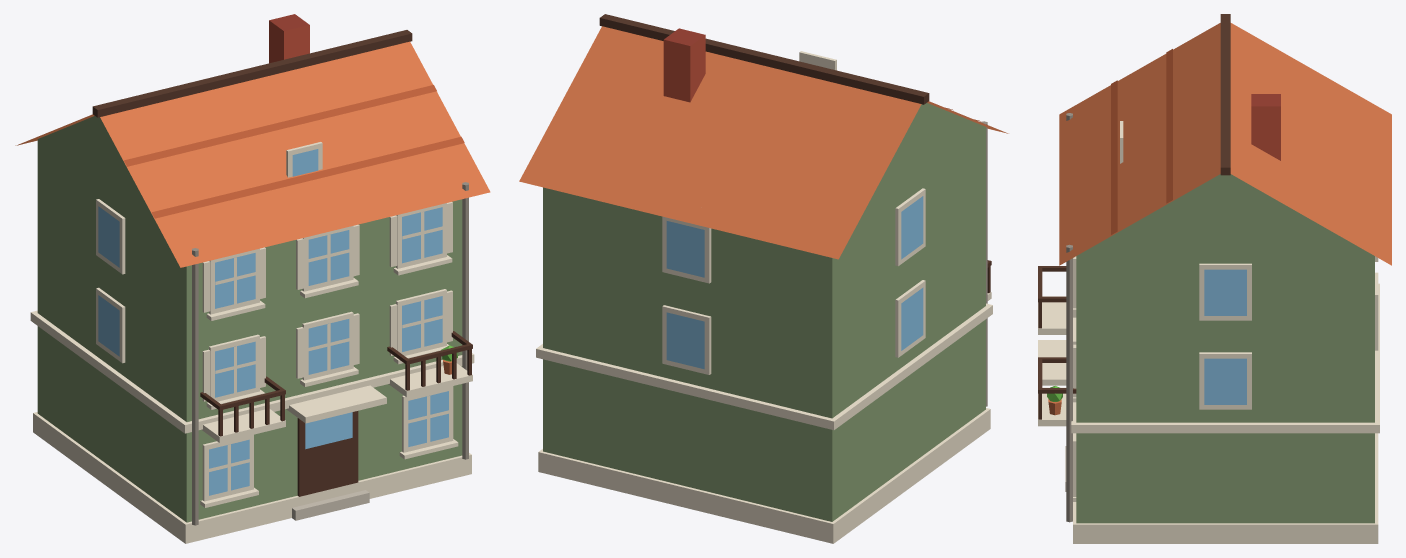
Rendered from B_AptSage.fbx.
3 renders of one model, left to right at view 1: azimuth 30°, elevation 25°; view 2: azimuth 150°, elevation 25°; view 3: azimuth 270°, elevation 25°, orthographic. The views are drawn at different scales.
Visible parts, largest first — view 1: B_AptSage; view 2: B_AptSage; view 3: B_AptSage.
Part boxes in pixels (x1,y1,x2,y2): B_AptSage: [15, 14, 490, 543]; B_AptSage: [519, 14, 1008, 543]; B_AptSage: [1038, 14, 1391, 543].
Bounding box in the file's own units: 4.26 × 5.2 × 4.15.
